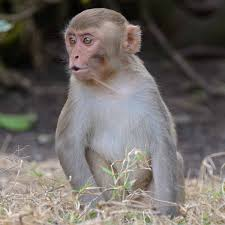monkey: (40, 7, 198, 200)
